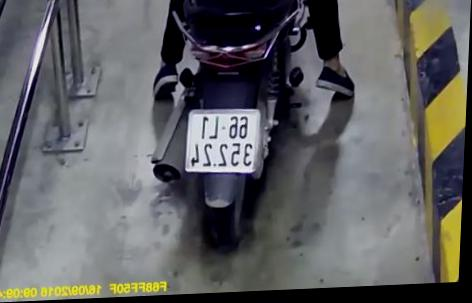License_Plate: (176, 103, 269, 179)
